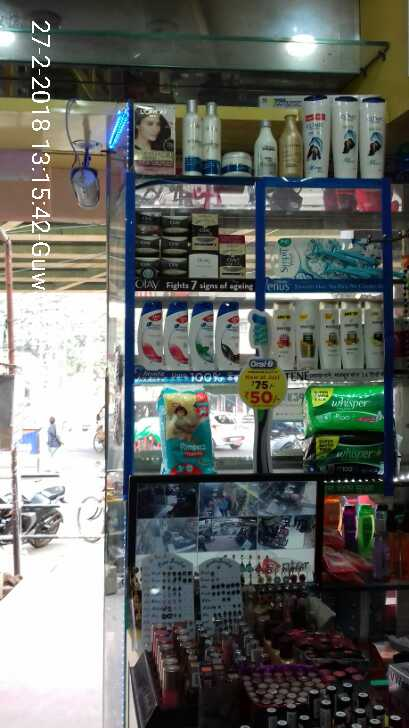venus: (279, 239, 401, 278)
